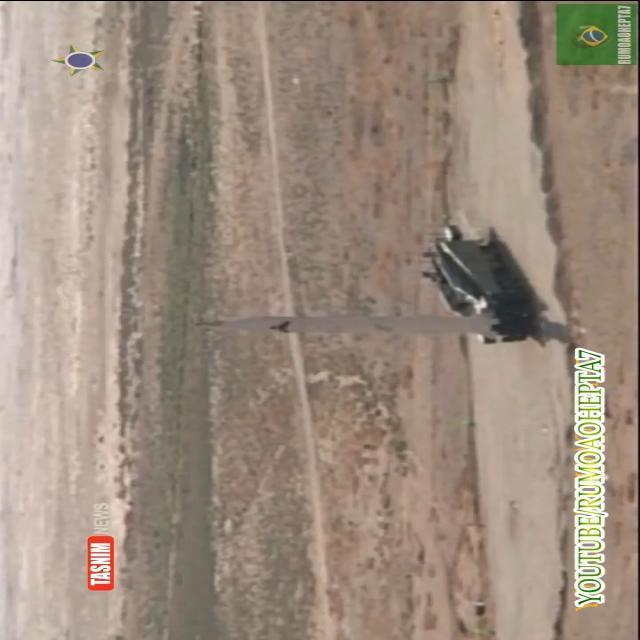missile: (192, 304, 492, 345)
